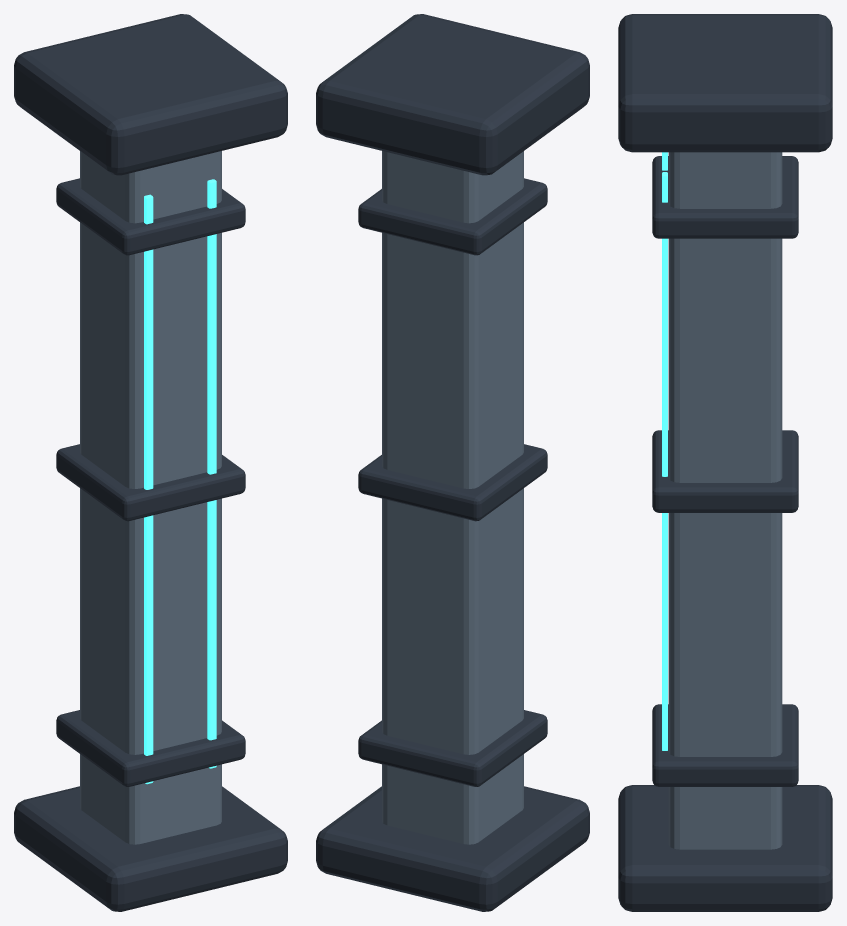
Rendered from Pillar.fbx.
3 views of the same model, side by side, from view 1: azimuth 30°, elevation 25°; view 2: azimuth 150°, elevation 25°; view 3: azimuth 270°, elevation 25° (orthographic). The views are drawn at different scales.
Visible parts, largest first — view 1: ColumnSpine, ColumnCapital, ColumnFoot, ColumnBrace.002, ColumnBrace, ColumnBrace.001, ColumnLight, ColumnLight.001; view 2: ColumnSpine, ColumnCapital, ColumnFoot, ColumnBrace.002, ColumnBrace, ColumnBrace.001; view 3: ColumnSpine, ColumnCapital, ColumnFoot, ColumnBrace.002, ColumnBrace.001, ColumnBrace, ColumnLight.001.
Part boxes in pixels (box(x1,y1,x2,y2)): ColumnSpine: box(80, 151, 221, 844); ColumnCapital: box(14, 14, 287, 175); ColumnFoot: box(14, 786, 287, 911); ColumnBrace.002: box(56, 178, 245, 255); ColumnBrace: box(56, 710, 245, 786); ColumnBrace.001: box(56, 444, 245, 521); ColumnLight: box(144, 194, 153, 784); ColumnLight.001: box(207, 179, 216, 768); ColumnSpine: box(382, 151, 523, 844); ColumnCapital: box(316, 14, 589, 175); ColumnFoot: box(316, 786, 589, 911); ColumnBrace.002: box(358, 178, 547, 255); ColumnBrace: box(358, 710, 547, 786); ColumnBrace.001: box(358, 444, 547, 521); ColumnSpine: box(668, 152, 782, 849); ColumnCapital: box(618, 14, 832, 152); ColumnFoot: box(618, 785, 832, 911); ColumnBrace.002: box(652, 156, 798, 238); ColumnBrace.001: box(652, 430, 798, 512); ColumnBrace: box(652, 704, 798, 786); ColumnLight.001: box(662, 172, 667, 750).
Bounding box in the file's own units: 0.85 × 3.58 × 0.85.
